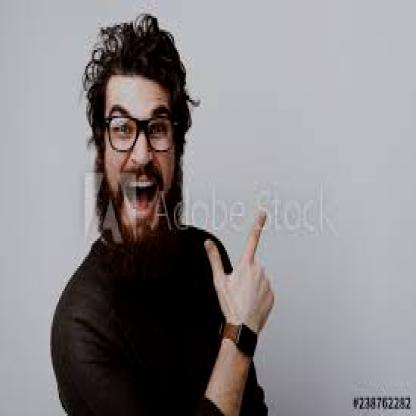Up: (199, 204, 288, 356)
